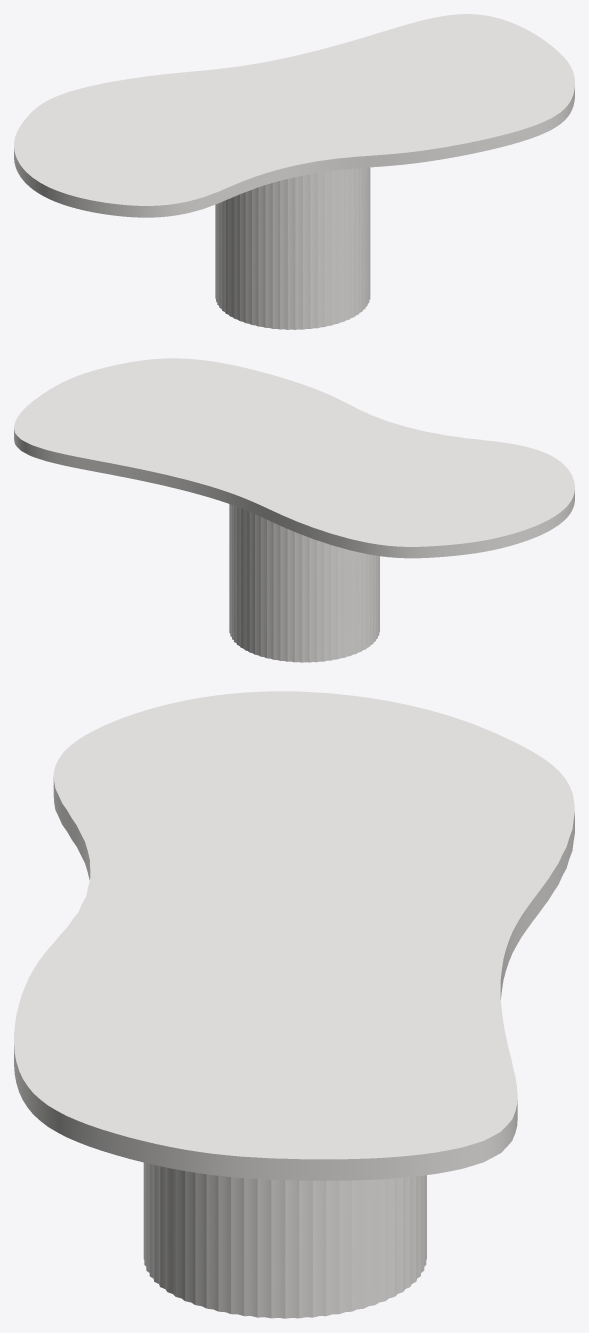
Rendered from purewhite_wave_standard_ripple.glb.
The picture shows the model from 3 angles, top to bottom: view 1: azimuth 30°, elevation 25°; view 2: azimuth 150°, elevation 25°; view 3: azimuth 270°, elevation 25°; orthographic projection. The views are drawn at different scales.
Visible parts, largest first — view 1: standard_wave, ripple; view 2: standard_wave, ripple; view 3: standard_wave, ripple.
Part boxes in pixels (x1,y1,x2,y2): standard_wave: [14, 14, 574, 217]; ripple: [215, 167, 370, 329]; standard_wave: [14, 358, 574, 558]; ripple: [229, 504, 379, 662]; standard_wave: [14, 691, 574, 1180]; ripple: [143, 1162, 426, 1318].
Size of the model in its own units: 7.5 by 2.51 by 3.8.
1 material, 1 textured.
